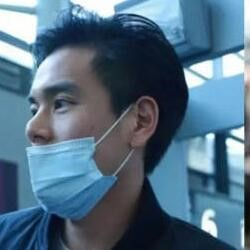mask: (18, 125, 126, 220)
